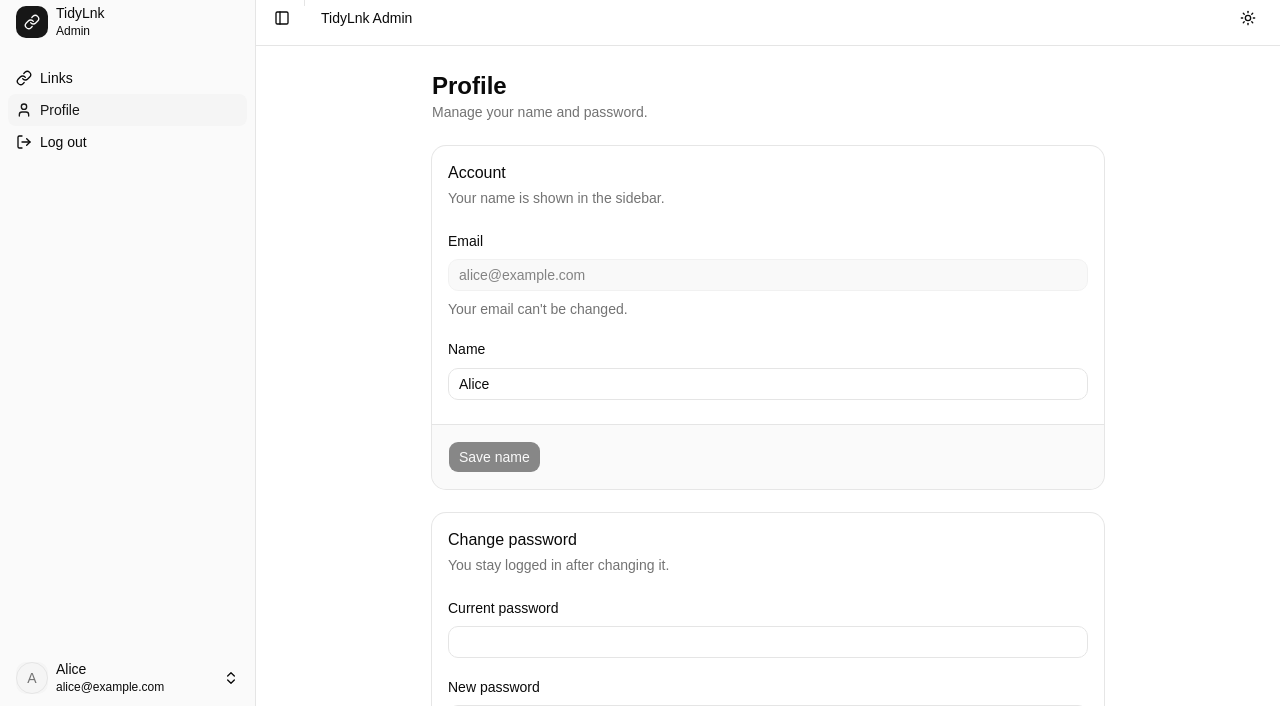
Test: Profile page › changes the password with the current password
Type "correct-horse" into the password field labelled "Current password". click: (768, 642)
box: [448, 626, 1088, 658]
(page scrolled)
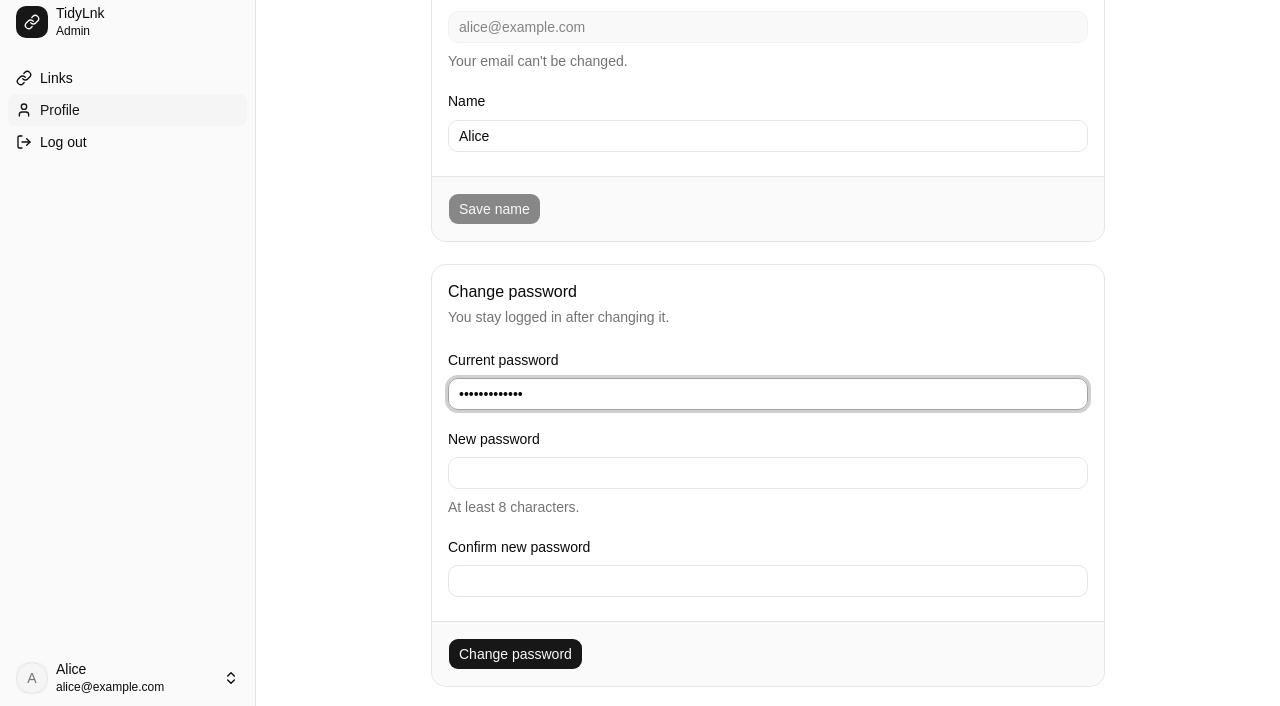
Type "new-password" into the password field labelled "New password". click: (768, 473)
box: [448, 457, 1088, 489]
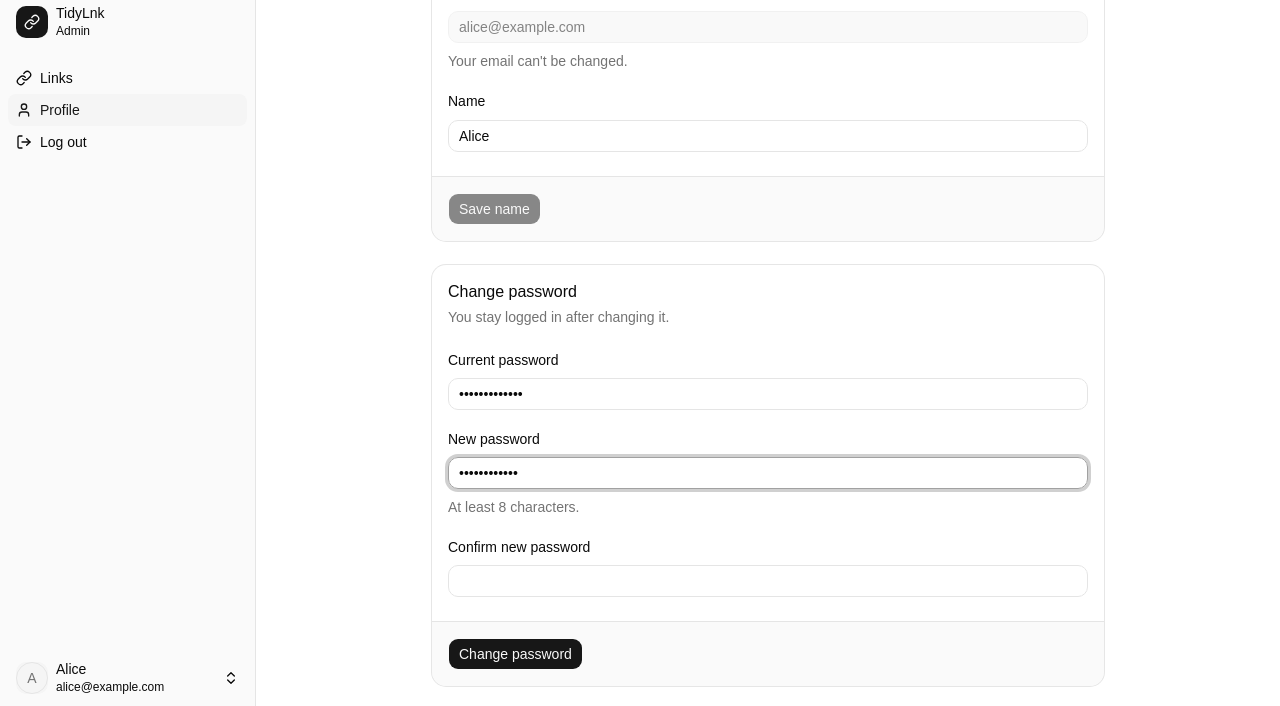
Type "new-password" into the password field labelled "Confirm new password". click: (768, 581)
box: [448, 565, 1088, 597]
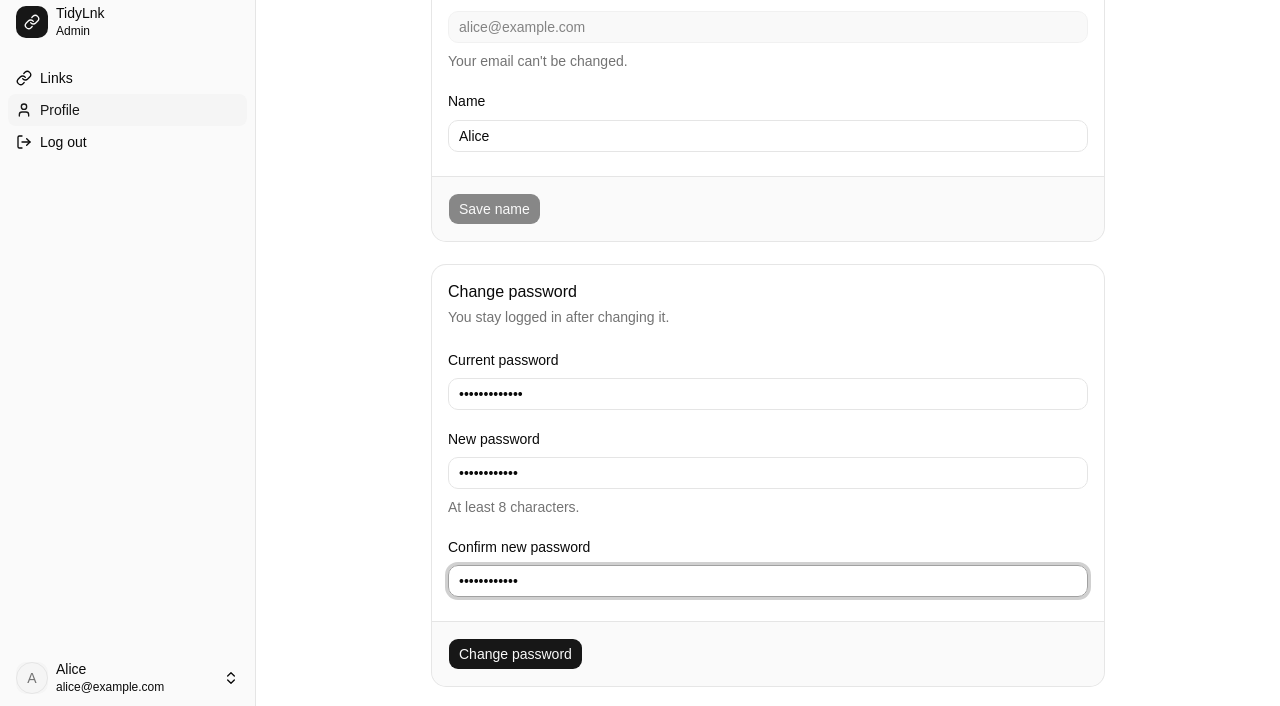
Click the button "Change password". click: (515, 654)
box: [448, 638, 583, 670]
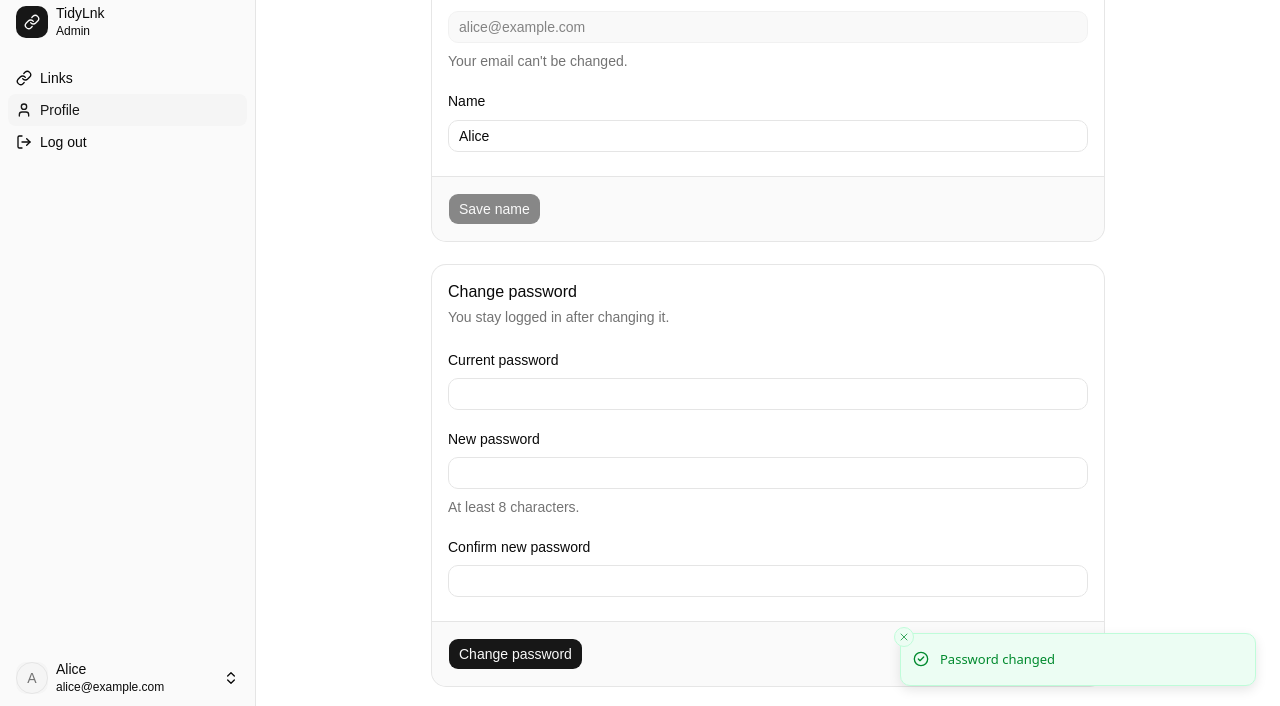
Result: the text "Password changed" is shown at [940, 650, 1055, 669]
Result: the password field labelled "Current password" is empty at [448, 378, 1088, 410]
